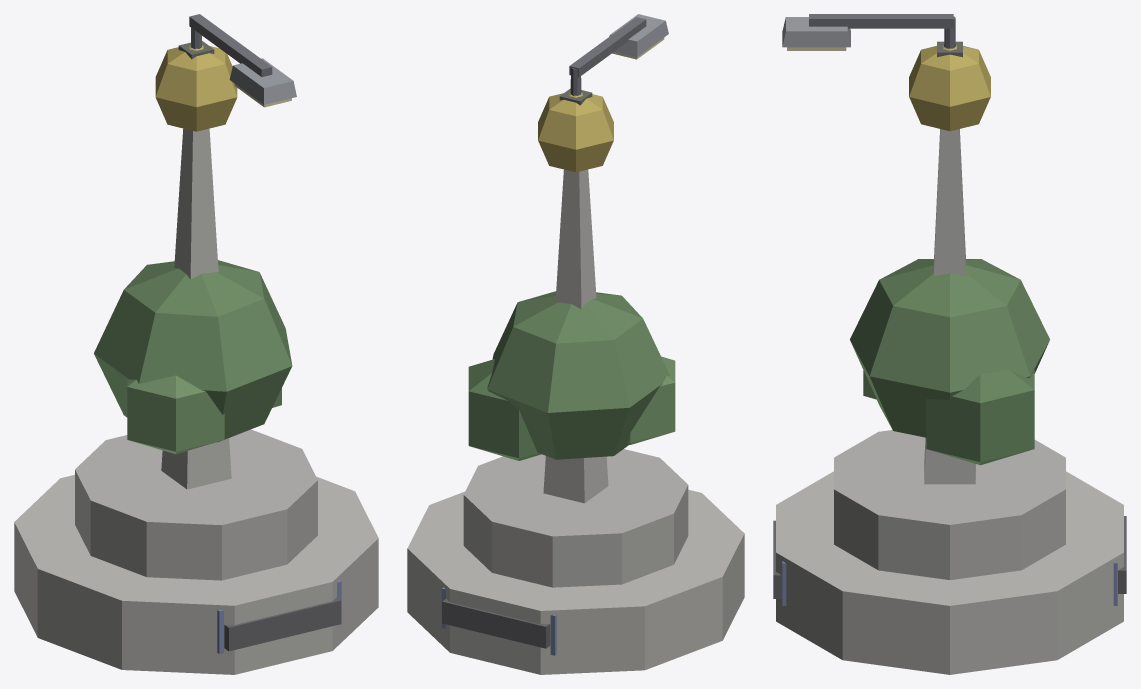
Rendered from props.glb.
3 renders of one model, left to right at view 1: azimuth 30°, elevation 25°; view 2: azimuth 150°, elevation 25°; view 3: azimuth 270°, elevation 25°, orthographic. The views are drawn at different scales.
Visible parts, largest first — view 1: monument, tree, streetlight, car; view 2: monument, tree, car, streetlight; view 3: monument, tree, streetlight, car.
Part boxes in pixels (x1=…): monument: x1=14, y1=45, x2=378, y2=674; tree: x1=94, y1=260, x2=292, y2=454; streetlight: x1=189, y1=14, x2=296, y2=107; car: x1=217, y1=580, x2=341, y2=653; monument: x1=407, y1=92, x2=744, y2=674; tree: x1=468, y1=291, x2=675, y2=460; car: x1=441, y1=587, x2=556, y2=655; streetlight: x1=569, y1=14, x2=668, y2=95; monument: x1=776, y1=45, x2=1123, y2=674; tree: x1=850, y1=259, x2=1049, y2=465; streetlight: x1=782, y1=14, x2=955, y2=50; car: x1=773, y1=516, x2=1126, y2=605.
Size of the model in its own units: 4.8 by 8.43 by 4.64.
